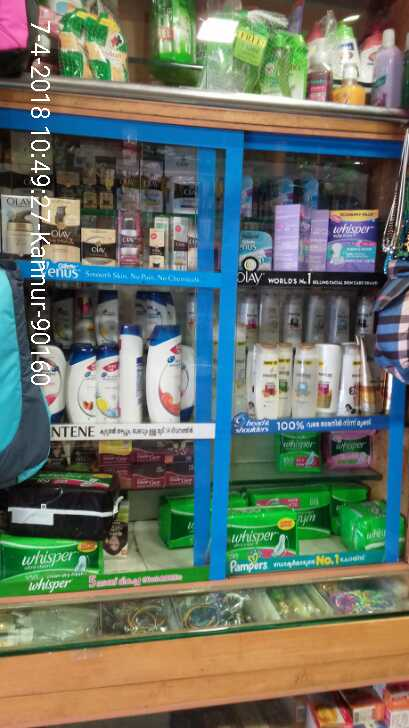venus: (241, 230, 271, 266), (260, 176, 292, 204), (299, 177, 319, 203), (243, 175, 253, 216)
